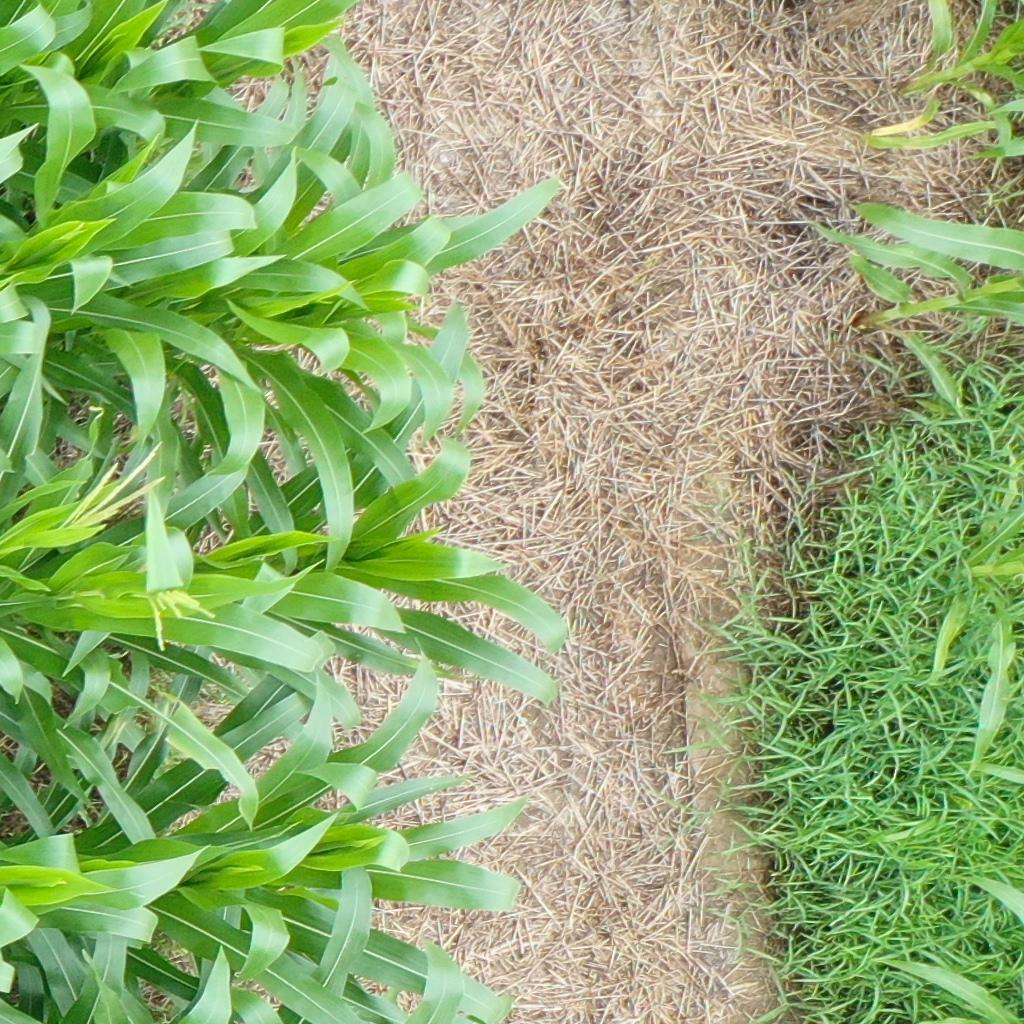Tassel: (60, 439, 169, 537), (143, 587, 218, 655)
